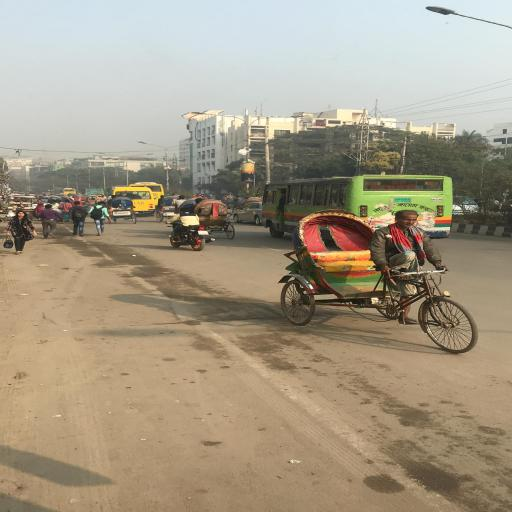bus: (263, 176, 458, 240)
car: (232, 203, 263, 227), (227, 200, 244, 210)
minibus: (114, 188, 158, 216), (130, 183, 165, 201), (81, 189, 105, 196), (64, 189, 77, 195)
minivan: (452, 194, 479, 218)
motorbike: (168, 209, 216, 252)
rickshaw: (278, 210, 482, 357), (194, 200, 236, 241), (108, 197, 138, 225), (160, 196, 179, 222), (180, 198, 198, 209), (48, 197, 65, 204), (87, 195, 97, 205), (243, 198, 263, 203), (97, 196, 109, 204), (75, 197, 87, 204), (62, 197, 75, 203), (223, 195, 235, 200), (194, 195, 205, 199), (35, 196, 45, 200)
